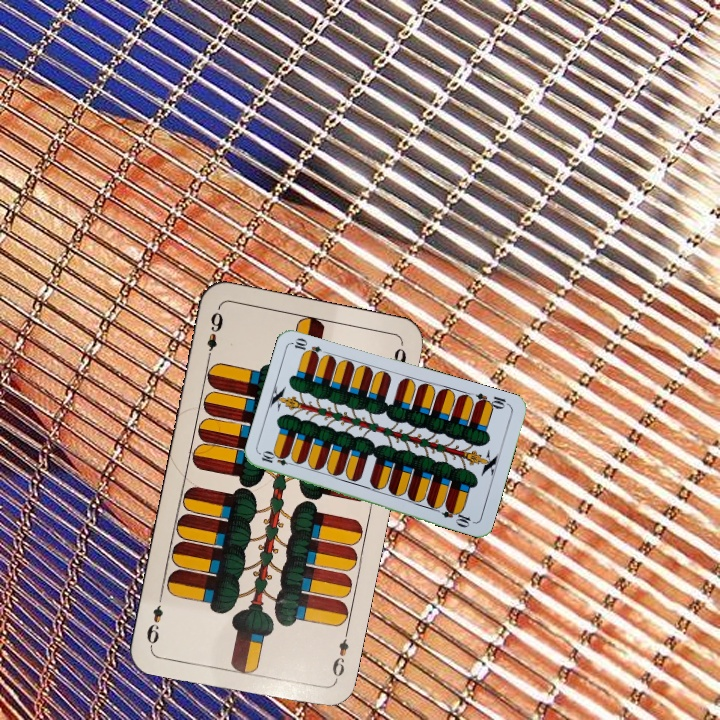E10: (471, 389, 512, 412), (257, 449, 298, 468)
E9: (328, 626, 352, 685), (202, 308, 226, 364)
